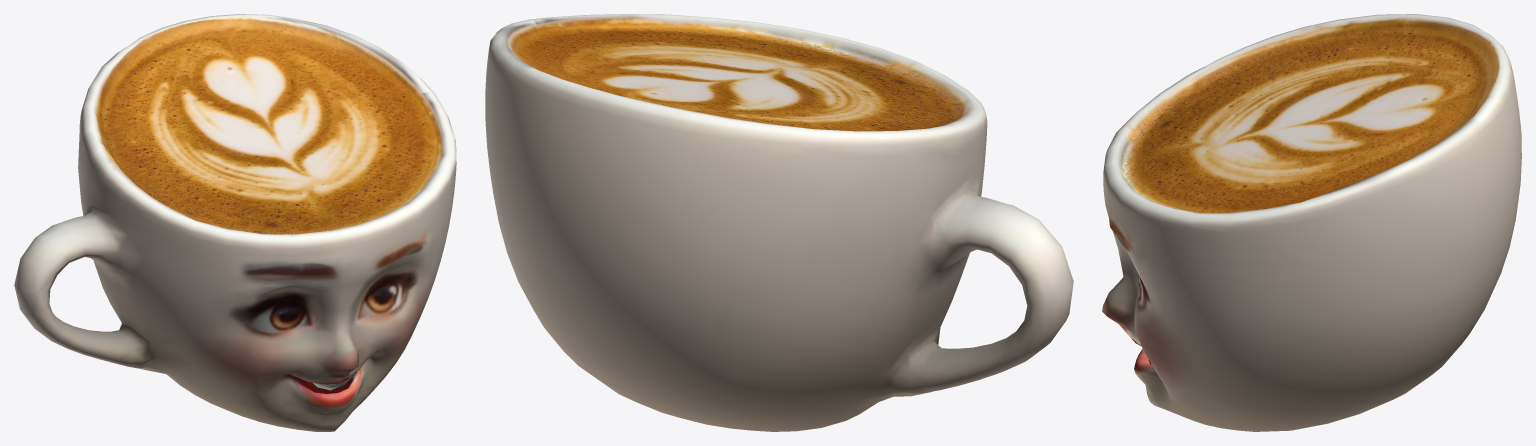
Rendered from BalerinaHead.fbx.
The picture shows the model from 3 angles, left to right: view 1: azimuth 30°, elevation 25°; view 2: azimuth 150°, elevation 25°; view 3: azimuth 270°, elevation 25°; orthographic projection. The views are drawn at different scales.
Visible parts, largest first — view 1: Balerina_low; view 2: Balerina_low; view 3: Balerina_low.
Part boxes in pixels (<box>): Balerina_low: <box>14,14,456,431</box>; Balerina_low: <box>485,14,1073,431</box>; Balerina_low: <box>1102,14,1521,431</box>.
Bounding box in the file's own units: 67.17 × 47.74 × 51.55.
Materials: 1 (1 with a texture image).
